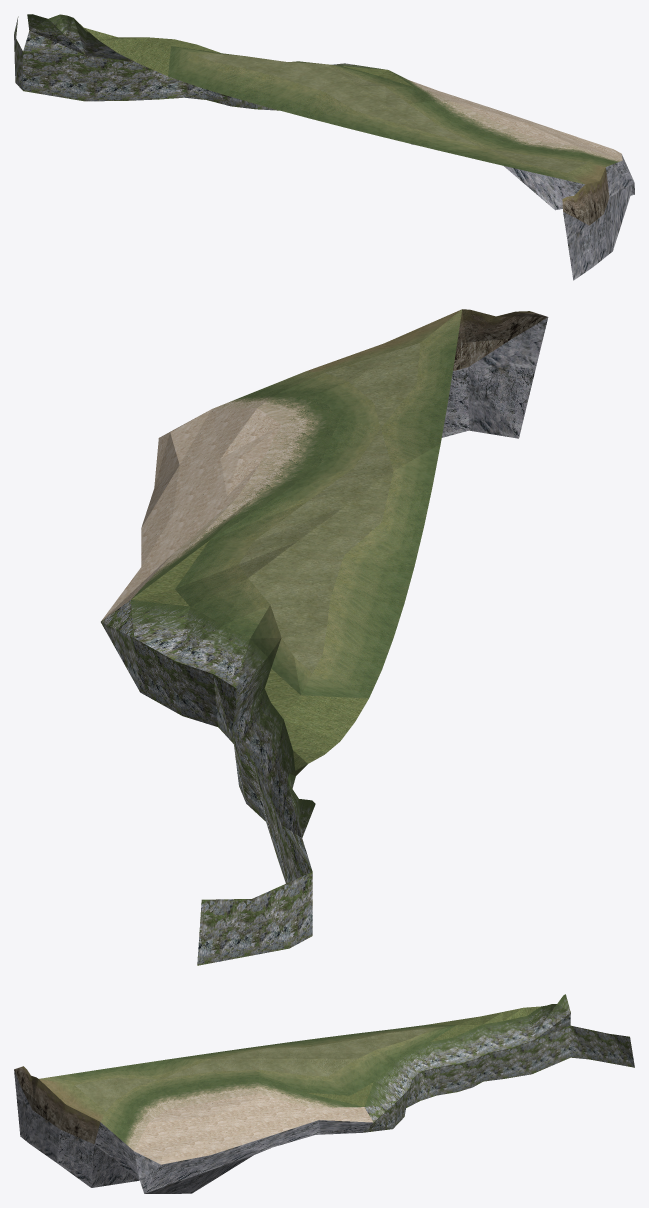
File: cunteground08.obj
3 views of the same model, one above another, from view 1: azimuth 30°, elevation 25°; view 2: azimuth 150°, elevation 25°; view 3: azimuth 270°, elevation 25° (orthographic). The views are drawn at different scales.
Parts seen in each view (by area): view 1: cuntEground08; view 2: cuntEground08; view 3: cuntEground08.
Boxes of the visible parts, x1,y1,x2,y2 form: cuntEground08: (14,14,634,280); cuntEground08: (101,309,548,965); cuntEground08: (14,994,634,1193).
Bounding box in the file's own units: 213 × 64.26 × 404.
